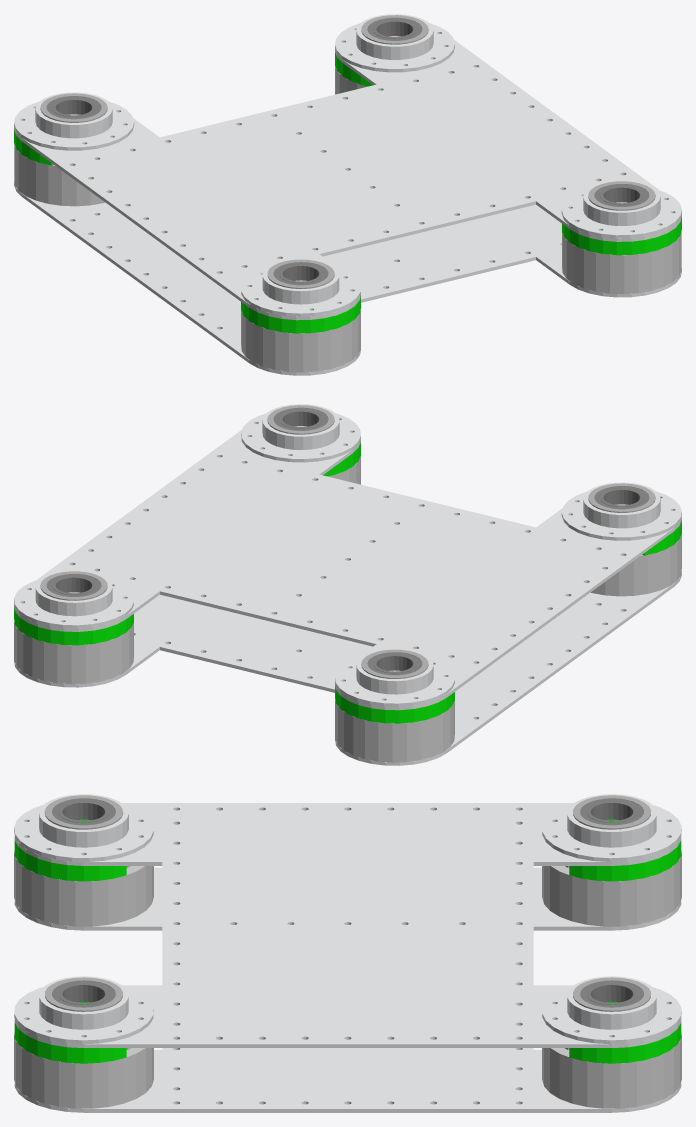
The model's file is body.dae.
3 views of the same model, one above another, from view 1: azimuth 30°, elevation 25°; view 2: azimuth 150°, elevation 25°; view 3: azimuth 270°, elevation 25° (orthographic). The views are drawn at different scales.
Visible parts, largest first — view 1: node1, node0, node18, node14, node4, node13, node10, node7, node22, node3, node6, node20 (+7 smaller); view 2: node1, node0, node22, node26, node13, node4, node7, node10, node18, node9, node12, node20 (+7 smaller); view 3: node1, node0, node26, node14, node22, node18, node4, node13, node10, node7, node9, node6 (+10 smaller).
Part boxes in pixels (x1,y1,x2,y2): node1: (14, 40, 681, 320); node0: (14, 181, 681, 375); node18: (241, 280, 360, 372); node14: (562, 202, 681, 294); node4: (561, 180, 681, 238); node13: (335, 14, 454, 72); node10: (14, 92, 134, 150); node7: (241, 258, 360, 316); node22: (14, 114, 104, 206); node3: (562, 216, 681, 255); node6: (241, 295, 360, 333); node20: (273, 262, 328, 285); node1: (14, 430, 681, 710); node0: (14, 571, 681, 765); node22: (335, 670, 454, 762); node26: (14, 592, 133, 684); node13: (14, 570, 133, 628); node4: (241, 404, 360, 462); node7: (561, 482, 681, 540); node10: (335, 648, 454, 706); node18: (591, 504, 681, 596); node9: (335, 685, 454, 723); node12: (14, 606, 133, 645); node20: (594, 486, 649, 509); node1: (14, 803, 681, 1047); node0: (14, 867, 681, 1112); node26: (542, 1032, 681, 1108); node14: (14, 1032, 153, 1108); node22: (542, 850, 681, 926); node18: (14, 850, 153, 926); node4: (14, 976, 153, 1044); node13: (542, 976, 681, 1044); node10: (542, 794, 681, 861); node7: (14, 794, 153, 861); node9: (569, 819, 681, 881); node6: (14, 819, 126, 881).
Size of the model in its own units: 0.4 by 0.468 by 0.0735.
